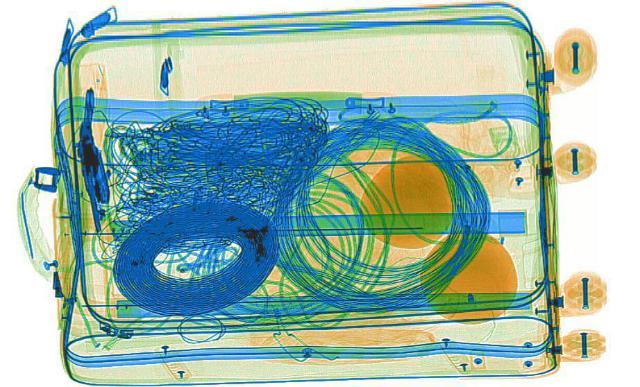Gun: (70, 84, 114, 227)
